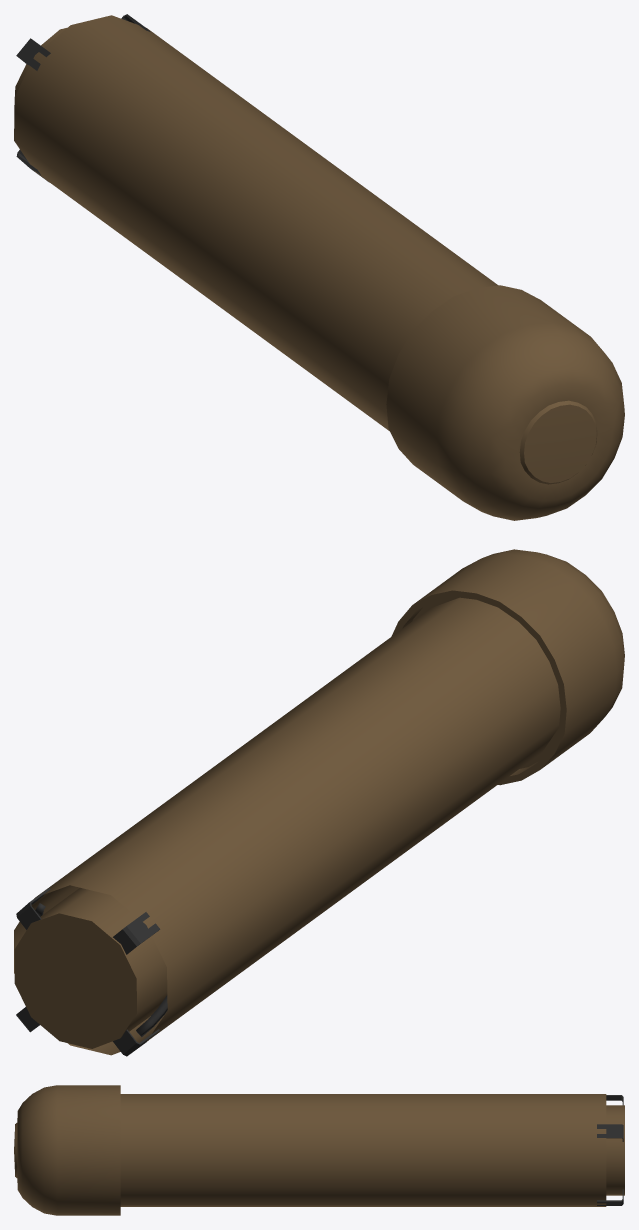
The model's file is buoy_submersible.FBX.
3 views of the same model, one above another, from view 1: azimuth 30°, elevation 25°; view 2: azimuth 150°, elevation 25°; view 3: azimuth 270°, elevation 25° (orthographic). The views are drawn at different scales.
Parts seen in each view (by area): view 1: Submersible_alpha, buoy_submersibe; view 2: Submersible_alpha, buoy_submersibe, Object008; view 3: Submersible_alpha, buoy_submersibe, Object007.
Boxes of the visible parts, x1,y1,x2,y2 form: Submersible_alpha: (14, 15, 498, 430); buoy_submersibe: (15, 28, 624, 520); Submersible_alpha: (14, 597, 560, 1055); buoy_submersibe: (14, 549, 624, 1048); Object008: (113, 912, 160, 954); Submersible_alpha: (120, 1094, 606, 1206); buoy_submersibe: (14, 1085, 624, 1215); Object007: (597, 1124, 623, 1141).
Size of the model in its own units: 0.1893 by 0.8823 by 0.1893.
